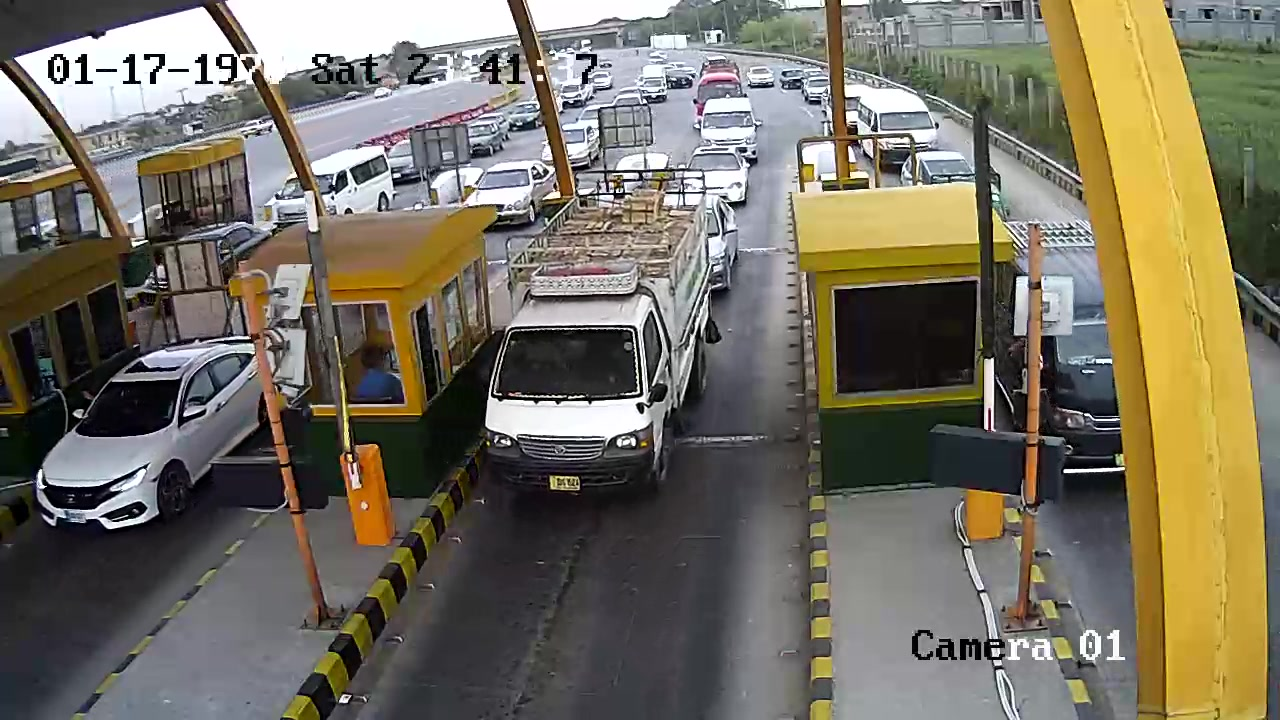F3: (477, 157, 722, 512)
